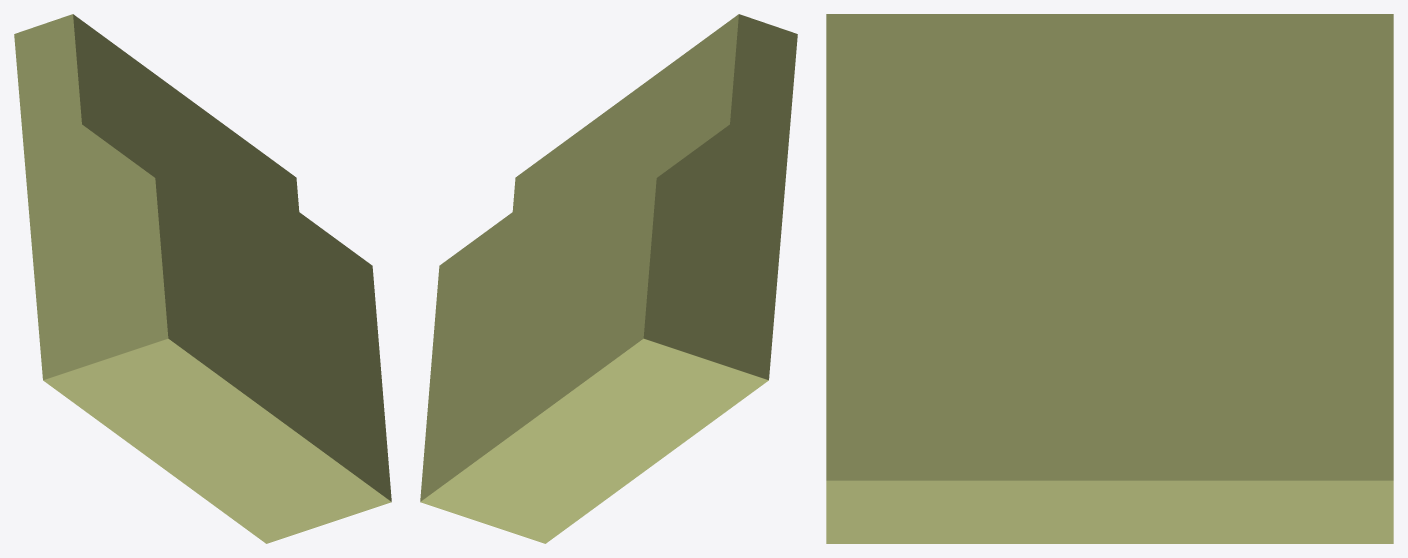
The picture shows the model from 3 angles, left to right: view 1: azimuth 30°, elevation 25°; view 2: azimuth 150°, elevation 25°; view 3: azimuth 270°, elevation 25°; orthographic projection. The views are drawn at different scales.
Parts seen in each view (by area): view 1: 0_2_3_3_3_1_0_1_0; view 2: 0_2_3_3_3_1_0_1_0; view 3: 0_2_3_3_3_1_0_1_0.
Part boxes in pixels (x1,y1,x2,y2): 0_2_3_3_3_1_0_1_0: [14, 14, 391, 543]; 0_2_3_3_3_1_0_1_0: [420, 14, 797, 543]; 0_2_3_3_3_1_0_1_0: [826, 14, 1393, 543].
Bounding box in the file's own units: 3.59 × 7.98 × 9.
